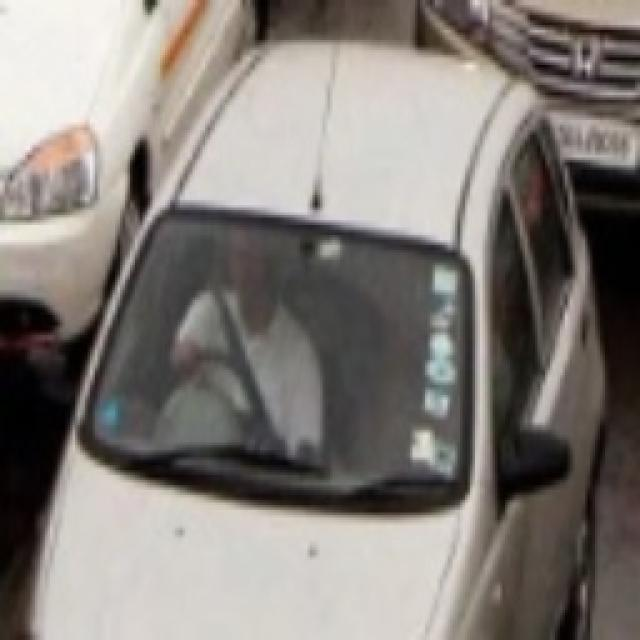windshield: (75, 188, 479, 540)
